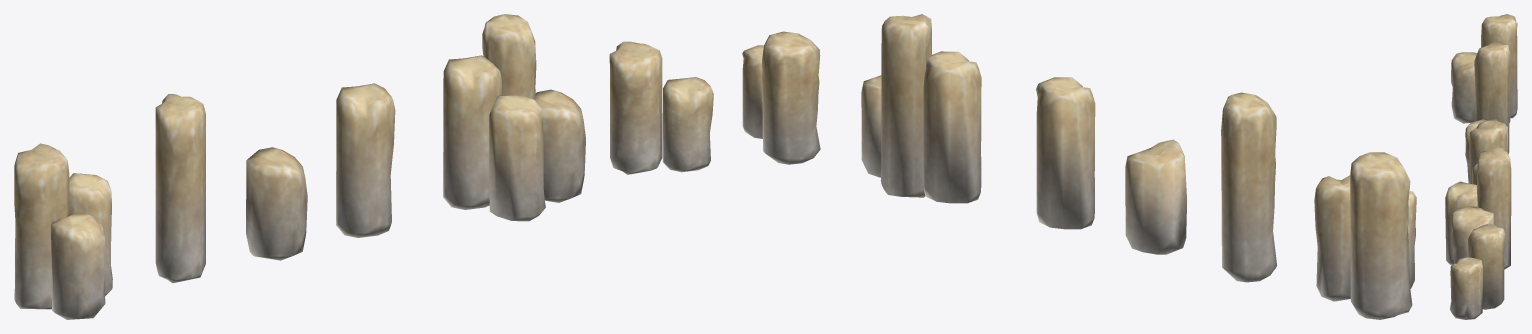
The model's file is Candles_A.fbx.
The picture shows the model from 3 angles, left to right: view 1: azimuth 30°, elevation 25°; view 2: azimuth 150°, elevation 25°; view 3: azimuth 270°, elevation 25°; orthographic projection. The views are drawn at different scales.
Parts seen in each view (by area): view 1: Candle_1A4, Candle_1A5, Candle_1A6, Candle_1A1, Candle_1A2, Candle_1A3; view 2: Candle_1A4, Candle_1A5, Candle_1A1, Candle_1A6, Candle_1A2, Candle_1A3; view 3: Candle_1A4, Candle_1A6, Candle_1A5, Candle_1A1, Candle_1A2, Candle_1A3.
Part boxes in pixels (<box>): Candle_1A4: <box>443,14,585,221</box>; Candle_1A5: <box>14,143,112,319</box>; Candle_1A6: <box>609,41,713,174</box>; Candle_1A1: <box>155,94,205,283</box>; Candle_1A2: <box>336,83,395,237</box>; Candle_1A3: <box>246,147,307,260</box>; Candle_1A4: <box>861,14,981,203</box>; Candle_1A5: <box>1314,152,1416,319</box>; Candle_1A1: <box>1221,92,1276,282</box>; Candle_1A6: <box>742,31,820,164</box>; Candle_1A2: <box>1036,77,1095,229</box>; Candle_1A3: <box>1125,139,1186,254</box>; Candle_1A4: <box>1445,146,1511,269</box>; Candle_1A6: <box>1450,224,1505,319</box>; Candle_1A5: <box>1451,14,1517,123</box>; Candle_1A1: <box>1474,42,1510,154</box>; Candle_1A2: <box>1469,120,1506,183</box>; Candle_1A3: <box>1465,119,1507,183</box>.
Size of the model in its own units: 214 by 52.09 by 30.16.
